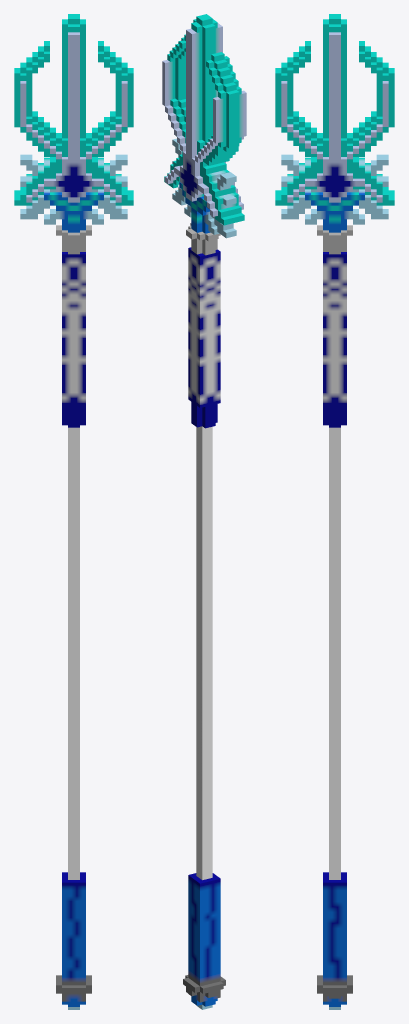
File: Spear_Ice.fbx
The picture shows the model from 3 angles, left to right: view 1: azimuth 90°, elevation 25°; view 2: azimuth 210°, elevation 25°; view 3: azimuth 270°, elevation 25°; orthographic projection.
Parts seen in each view (by area): view 1: Matrix; view 2: Matrix; view 3: Matrix.
Part boxes in pixels (<box>): Matrix: <box>14,14,133,1009</box>; Matrix: <box>162,14,246,1009</box>; Matrix: <box>275,14,394,1009</box>.
Bounding box in the file's own units: 6 × 183 × 20.
Materials: 1 (1 with a texture image).
